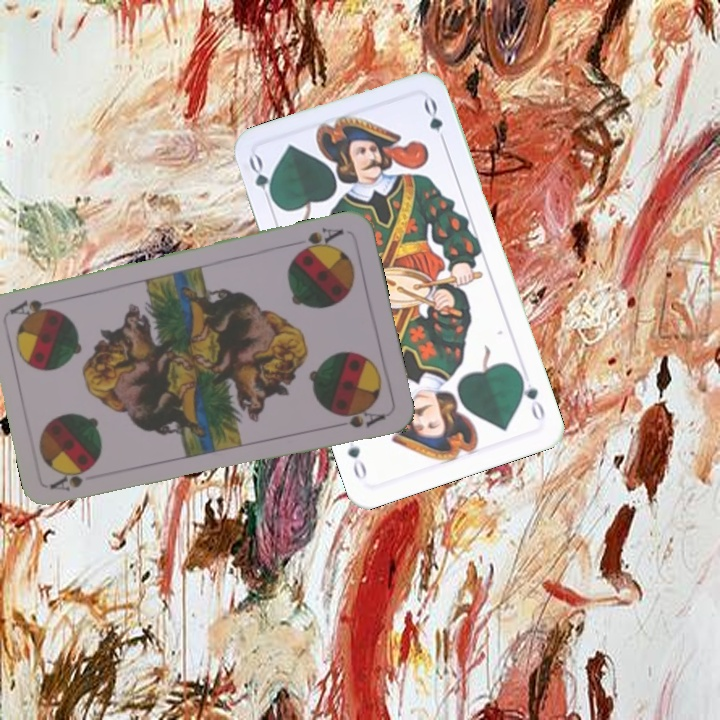GO: (244, 151, 279, 210), (515, 369, 548, 424)
SA: (292, 223, 346, 257), (47, 466, 93, 495)
